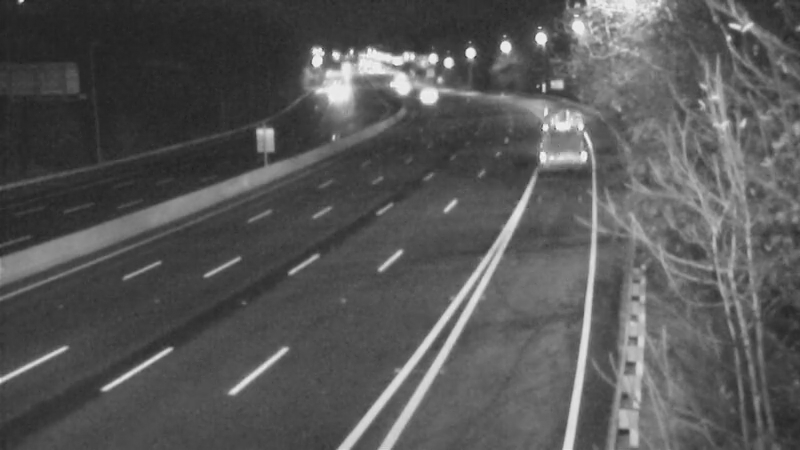vehicle: (400, 69, 450, 119), (528, 107, 578, 157), (306, 69, 356, 119)
